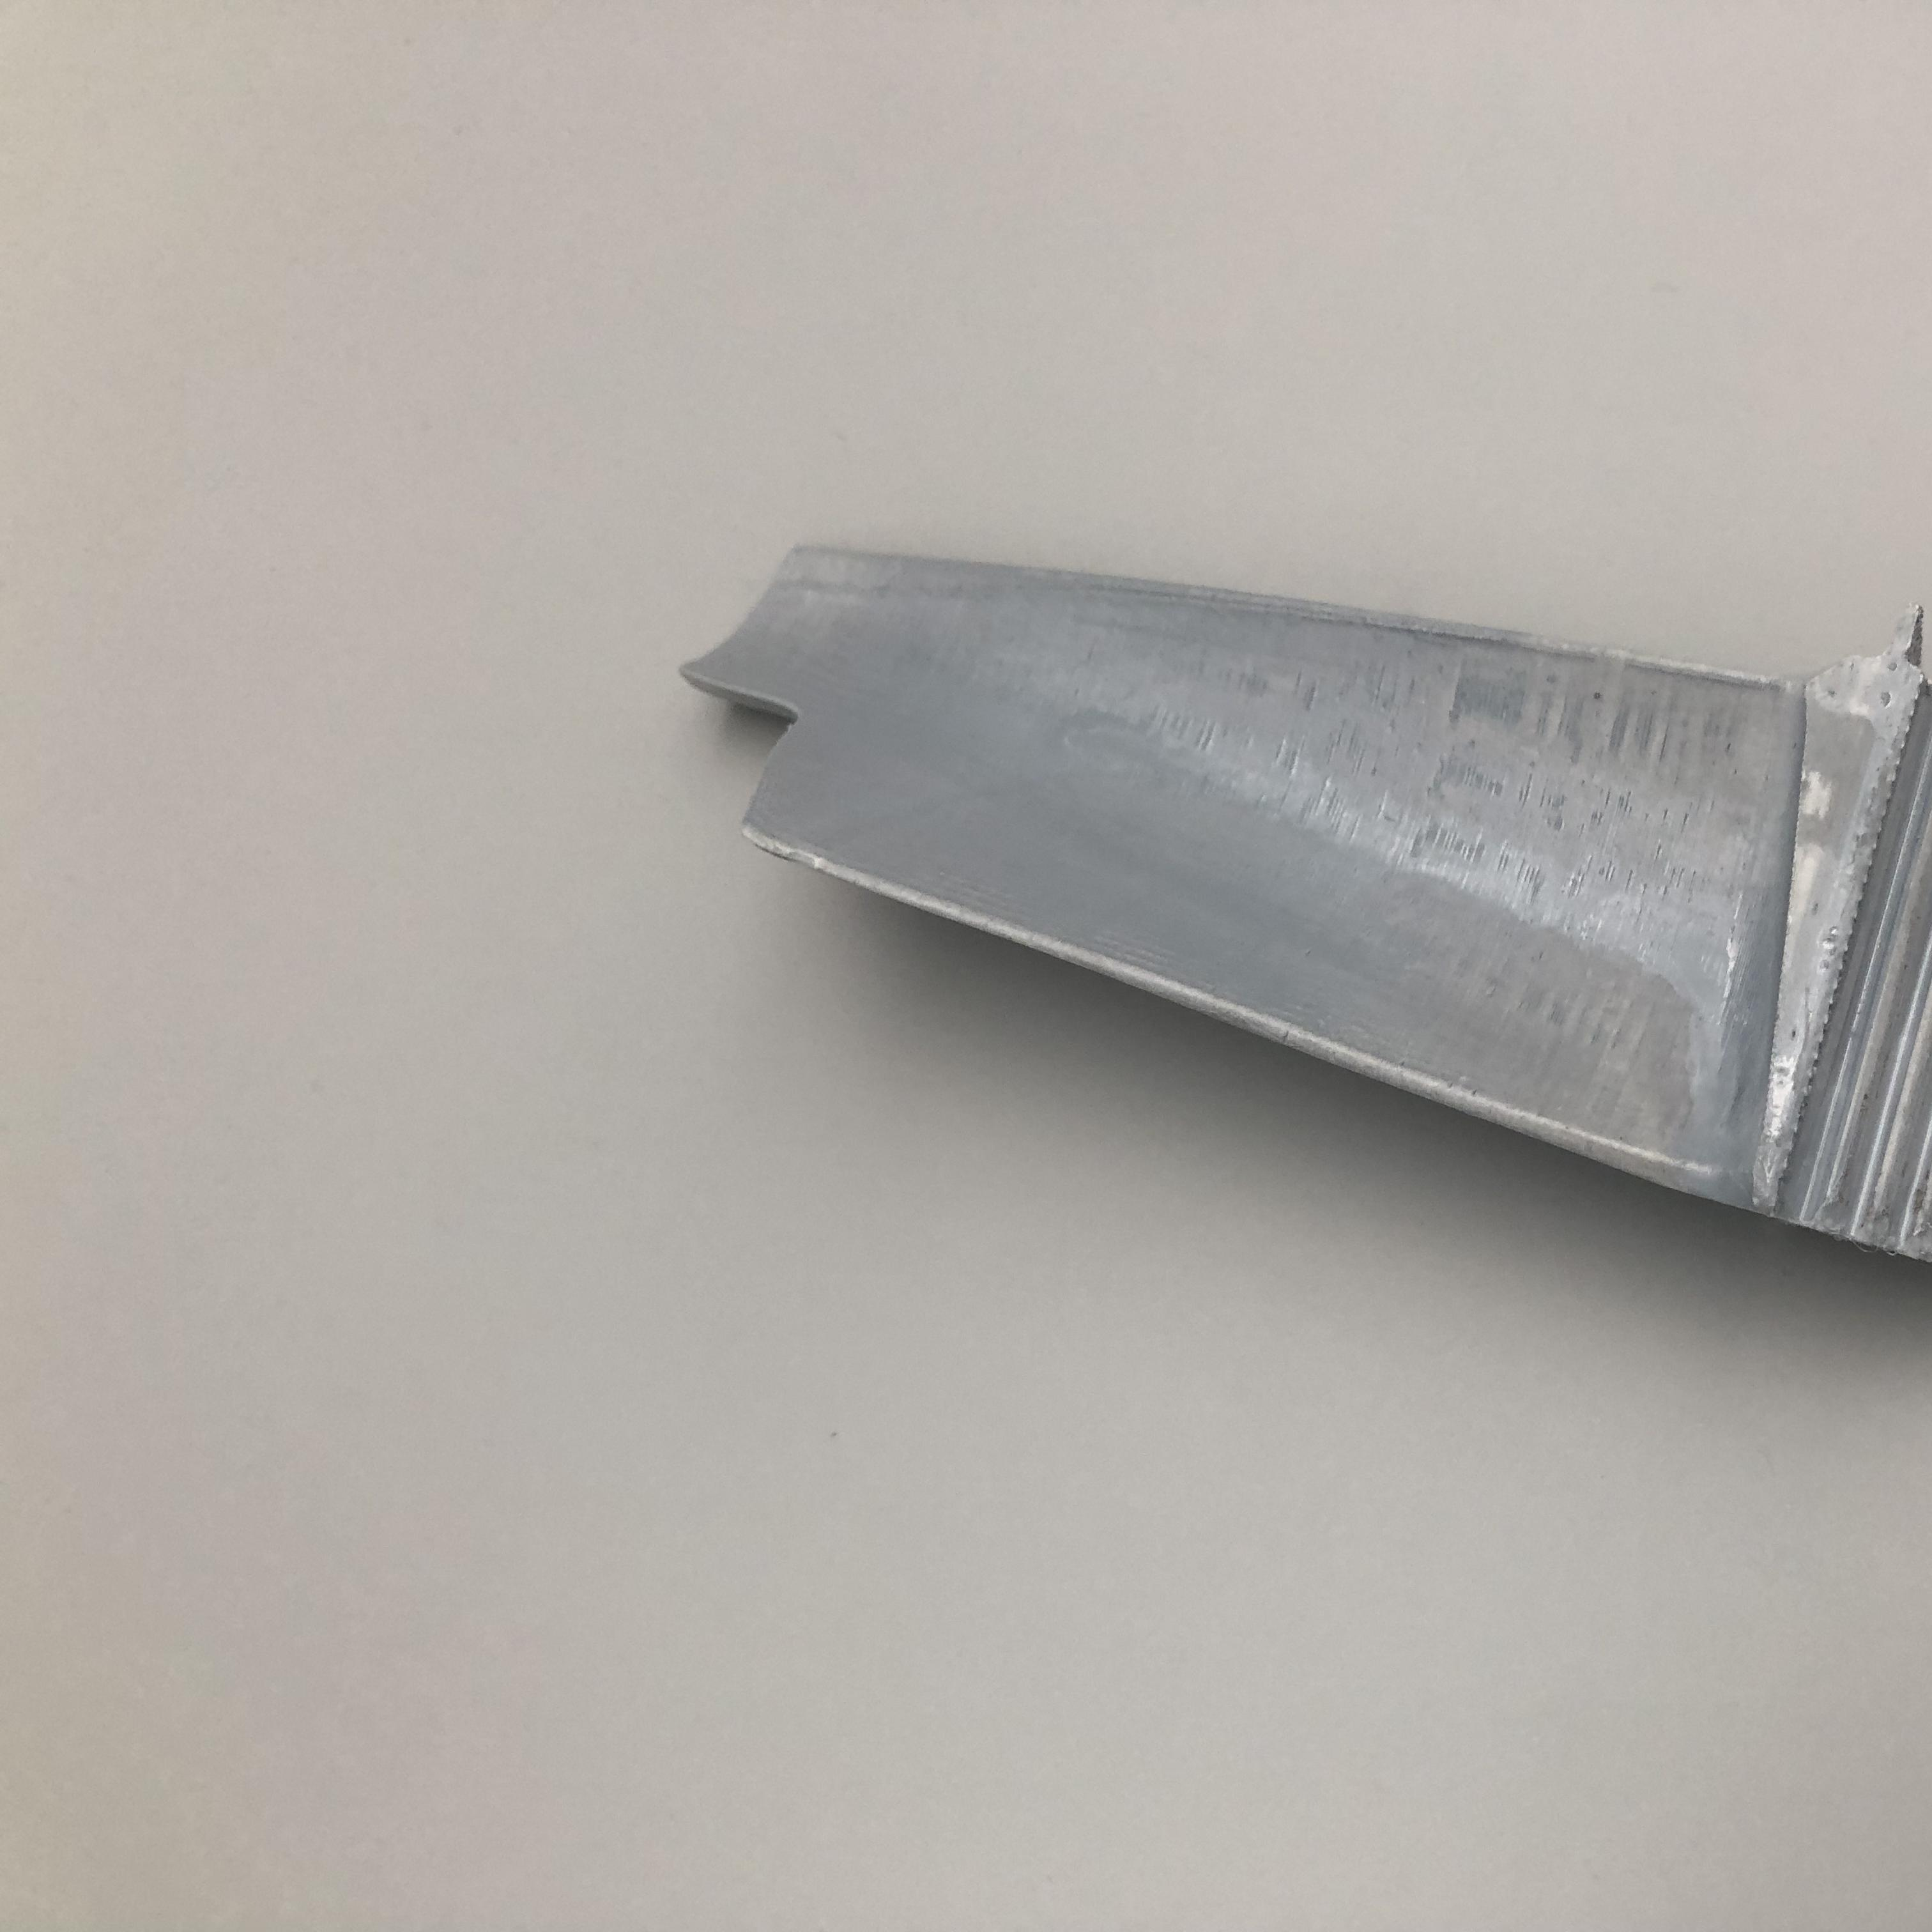fracture: (690, 653, 832, 856)
